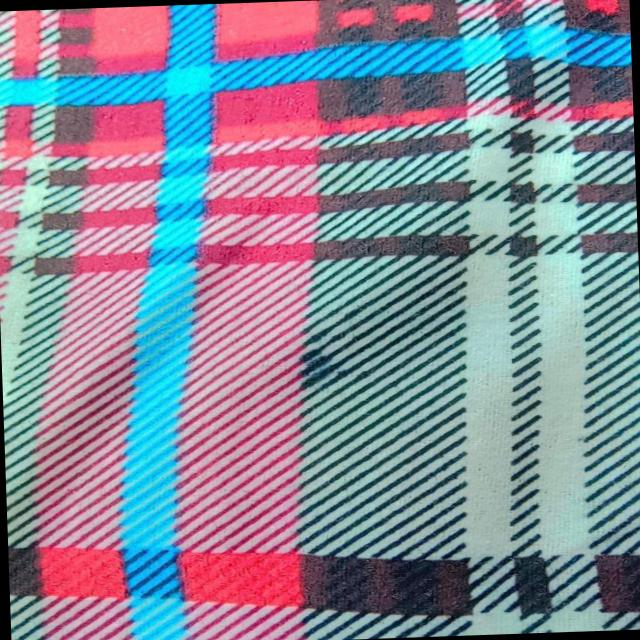stain: (272, 338, 379, 399)
